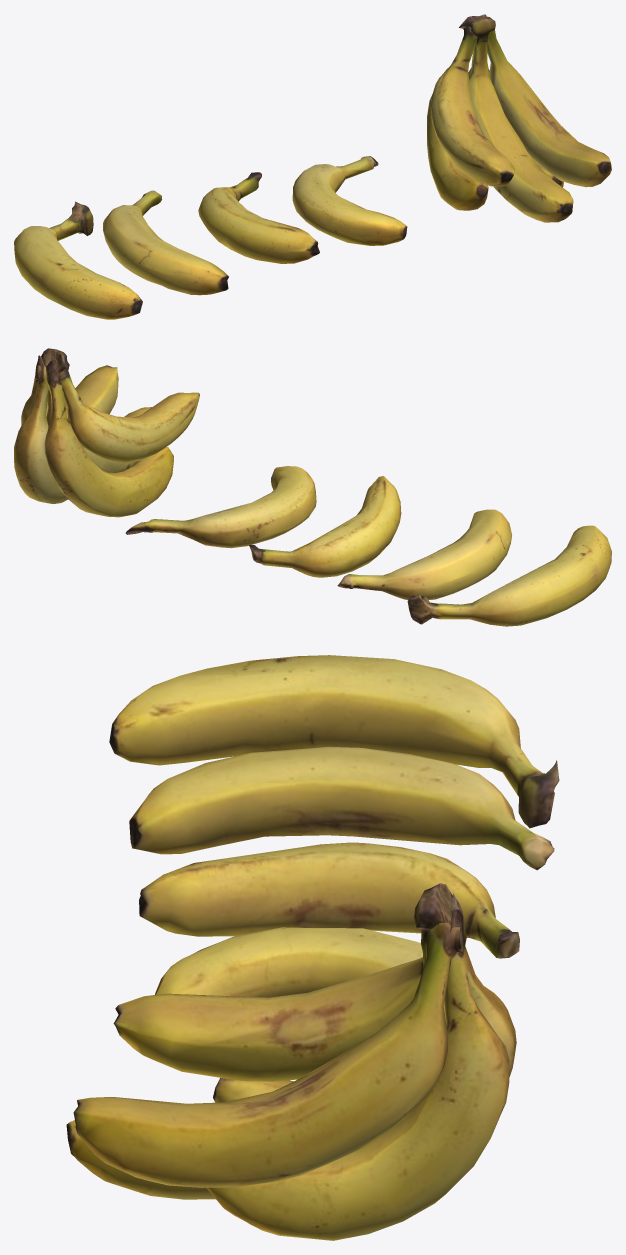
Rendered from bananas.glb.
The picture shows the model from 3 angles, top to bottom: view 1: azimuth 30°, elevation 25°; view 2: azimuth 150°, elevation 25°; view 3: azimuth 270°, elevation 25°; orthographic projection. The views are drawn at different scales.
Parts seen in each view (by area): view 1: bananas_bunch, bananas_d, bananas_c, bananas_a, bananas_b; view 2: bananas_bunch, bananas_d, bananas_c, bananas_a, bananas_b; view 3: bananas_bunch, bananas_d, bananas_c, bananas_b, bananas_a.
Boxes of the visible parts, x1,y1,x2,y2 form: bananas_bunch: (427, 14, 611, 222); bananas_d: (14, 201, 142, 319); bananas_c: (103, 190, 228, 295); bananas_a: (292, 156, 407, 245); bananas_b: (198, 172, 319, 263); bananas_bunch: (14, 348, 199, 517); bananas_d: (407, 525, 611, 626); bananas_c: (337, 509, 511, 599); bananas_a: (125, 466, 316, 548); bananas_b: (249, 476, 401, 577); bananas_bunch: (66, 883, 516, 1240); bananas_d: (109, 655, 559, 828); bananas_c: (129, 746, 554, 870); bananas_b: (139, 842, 519, 958); bananas_a: (155, 927, 422, 997).
Size of the model in its own units: 0.5996 by 0.1786 by 0.244.
Materials: 1 (1 with a texture image).
